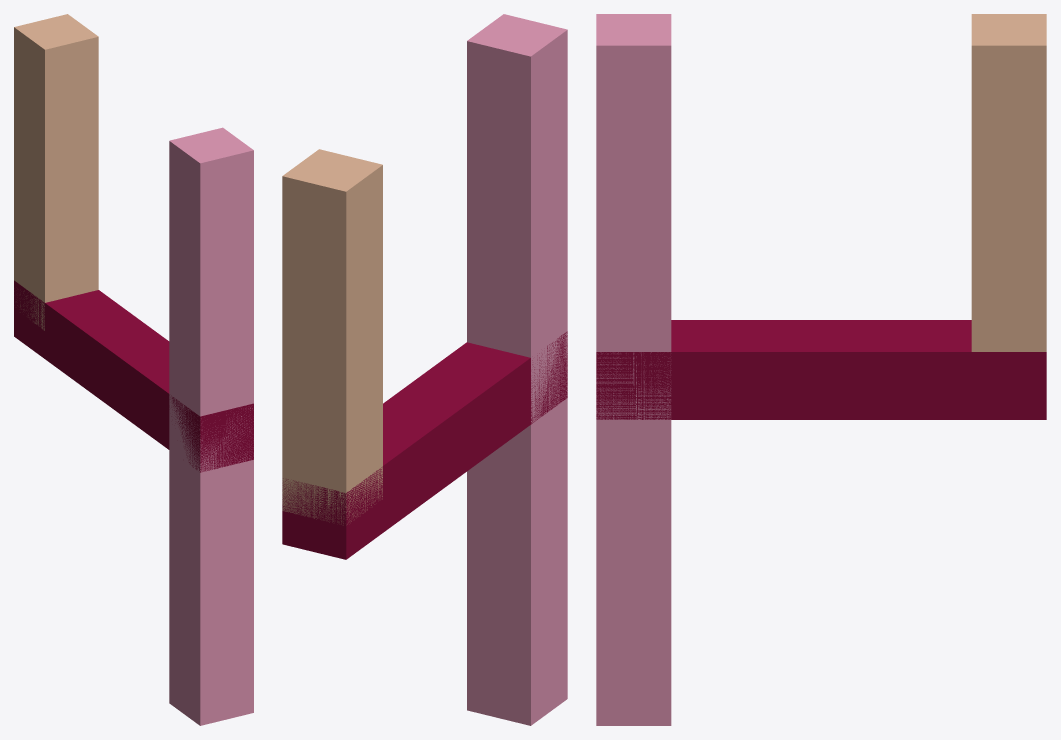
Rendered from four.obj.
The picture shows the model from 3 angles, left to right: view 1: azimuth 30°, elevation 25°; view 2: azimuth 150°, elevation 25°; view 3: azimuth 270°, elevation 25°; orthographic projection. The views are drawn at different scales.
Visible parts, largest first — view 1: Box003, Box002, Box001; view 2: Box003, Box002, Box001; view 3: Box003, Box001, Box002.
Part boxes in pixels (x1,y1,x2,y2): Box003: (169, 127, 253, 725); Box002: (14, 14, 98, 330); Box001: (14, 280, 253, 472); Box003: (467, 14, 567, 725); Box002: (282, 149, 382, 525); Box001: (282, 331, 567, 559); Box003: (596, 14, 671, 725); Box001: (596, 320, 1046, 419); Box002: (971, 14, 1046, 351).
Bounding box in the file's own units: 10 × 100 × 60.
